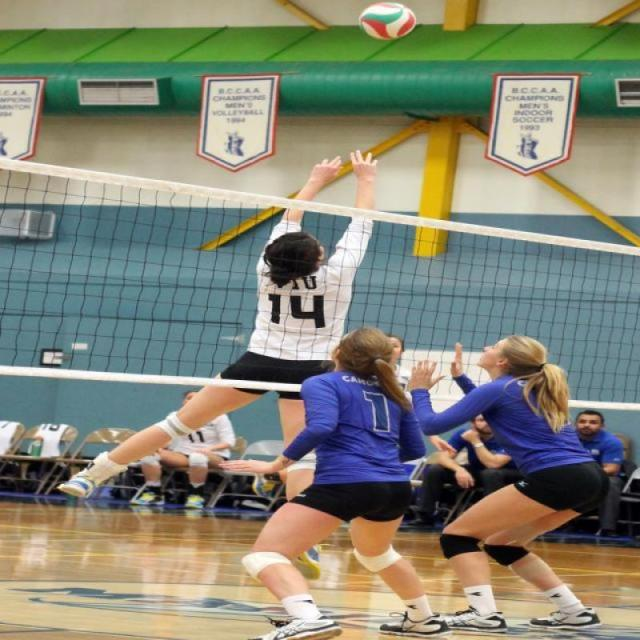volleyball: (357, 0, 417, 39)
